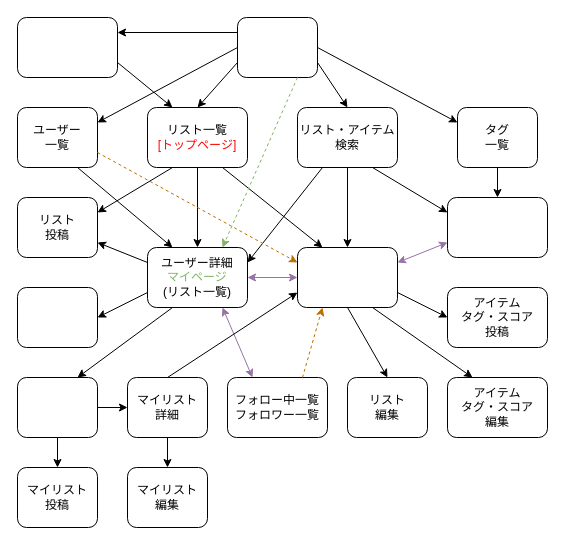
This 565x545 diagram has some shape labels left out. Here are the shapes that lost their labels. From the top down, the box of each, then its label:
(16, 16, 118, 78): ユーザー登録 ログイン
(236, 16, 318, 78): ヘッダー [全ページ]
(446, 196, 548, 258): タグ詳細 (アイテム一覧)
(296, 246, 398, 308): リスト詳細 最新リスト詳細 (アイテム一覧)
(16, 286, 98, 348): ユーザー 編集
(16, 376, 98, 438): マイリスト 一覧
